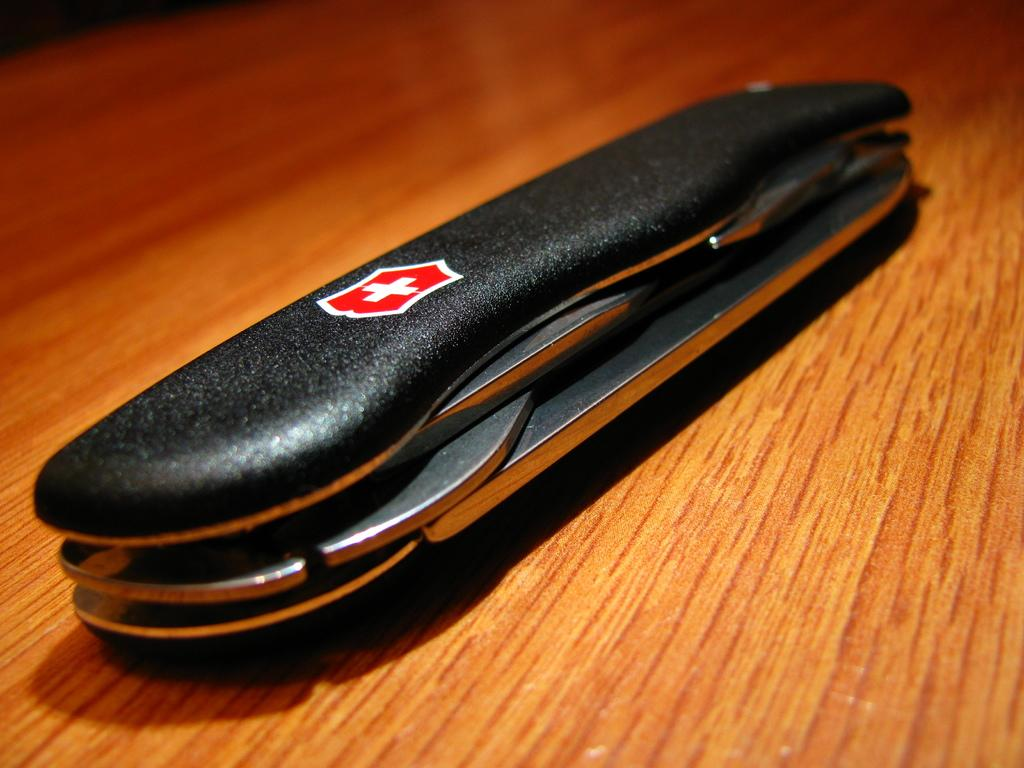Knife: (27, 81, 918, 682)
